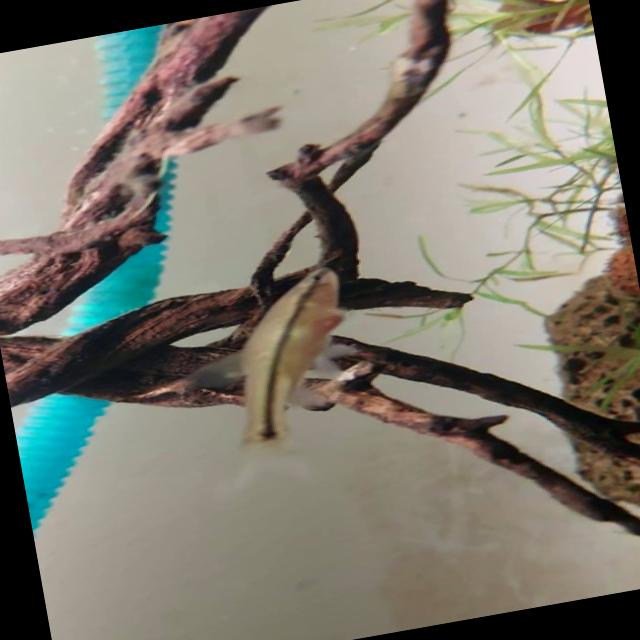Cakil Baligi: (148, 262, 368, 484)
